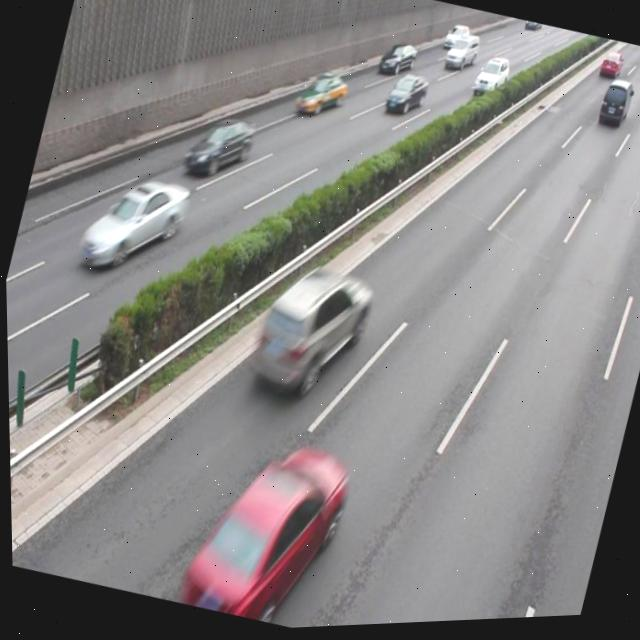car: (169, 423, 354, 634), (238, 253, 376, 413), (69, 160, 191, 288), (178, 108, 257, 189), (289, 67, 349, 127), (380, 70, 430, 124)
